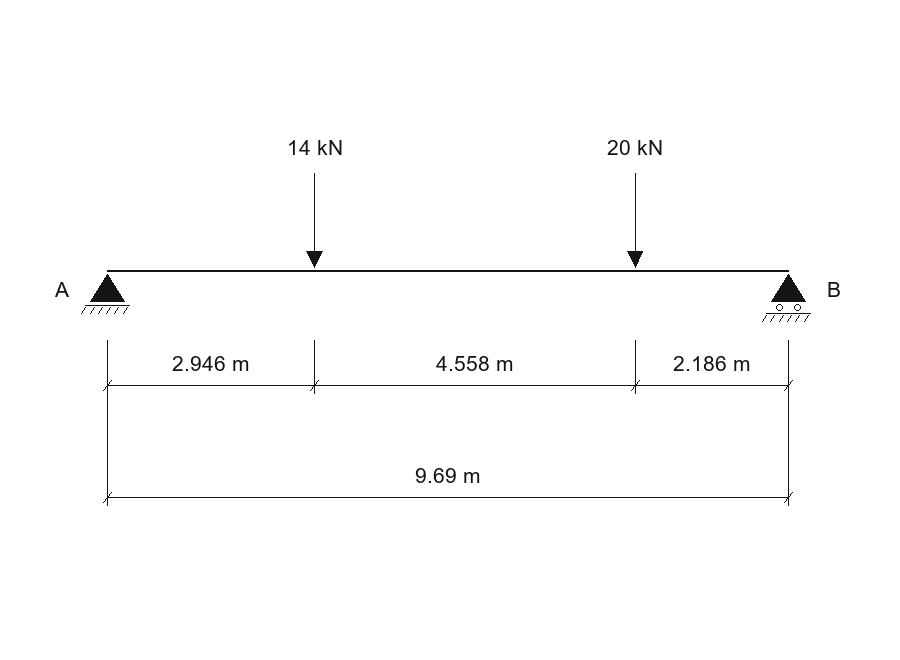pin_support: (81, 274, 130, 314)
point_load: (306, 173, 323, 268), (627, 173, 643, 268)
roller_support: (762, 274, 811, 322)
